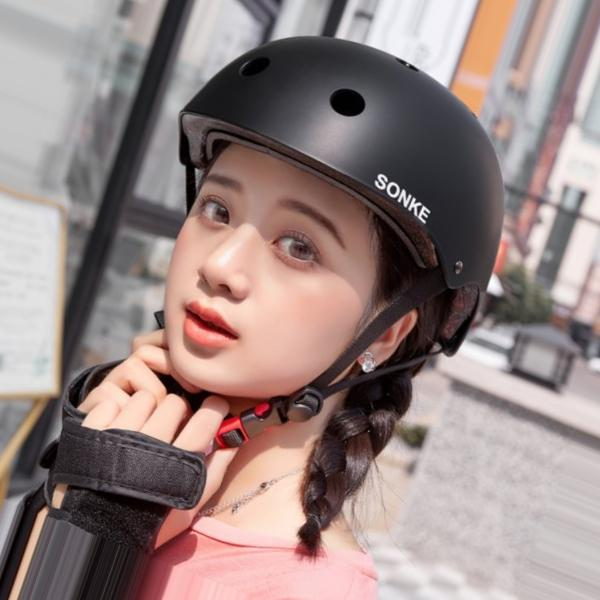with helmet: (162, 30, 505, 404)
